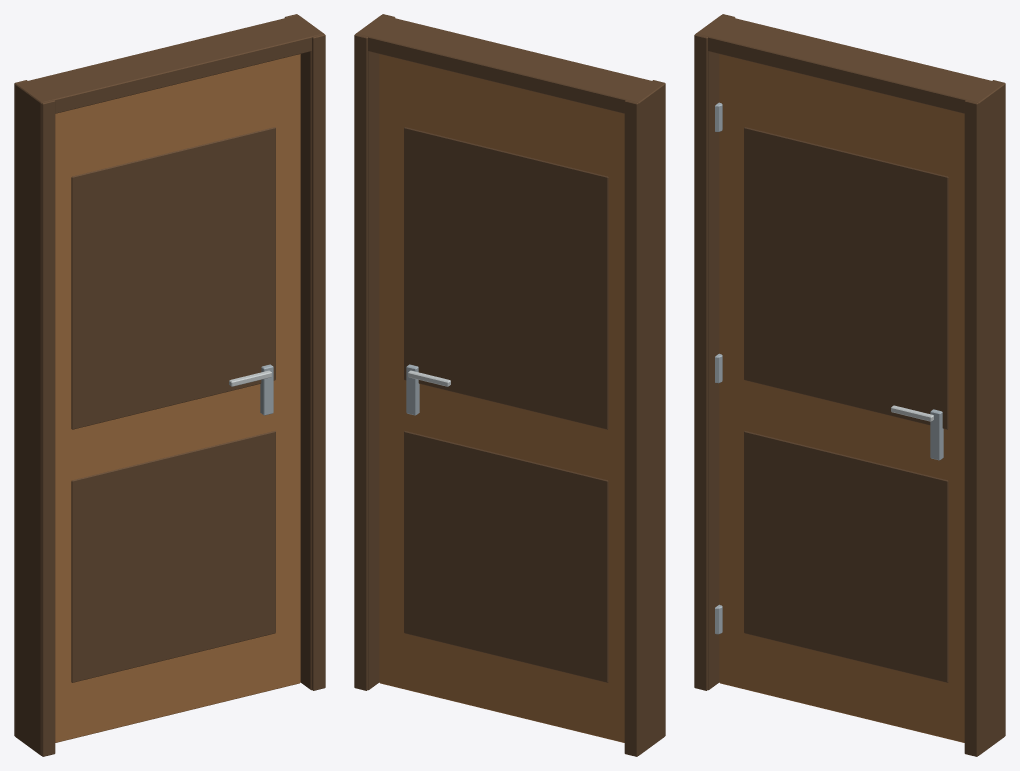
File: b21_door_wood_panel.glb
3 renders of one model, left to right at view 1: azimuth 30°, elevation 25°; view 2: azimuth 150°, elevation 25°; view 3: azimuth 330°, elevation 25°, orthographic.
Visible parts, largest first — view 1: b21_door_wood_panel; view 2: b21_door_wood_panel; view 3: b21_door_wood_panel.
Part boxes in pixels (x1,y1,x2,y2): b21_door_wood_panel: (14,14,325,756); b21_door_wood_panel: (354,14,665,756); b21_door_wood_panel: (694,14,1005,756).
Size of the model in its own units: 1 by 2.2 by 0.176.
